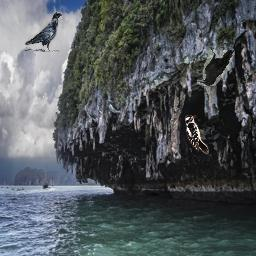Crow: (197, 46, 235, 86), (25, 12, 62, 52)
Woodpecker: (185, 115, 209, 155)
